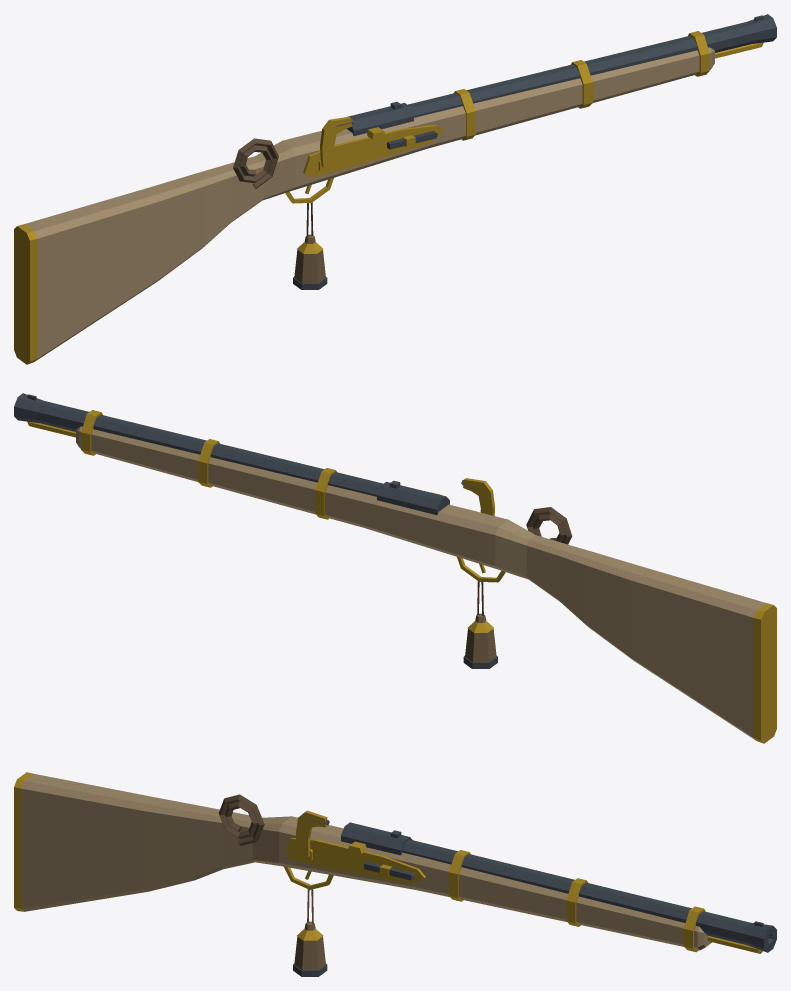
The model's file is tanegashima-matchlock-7d21b2.glb.
3 views of the same model, one above another, from view 1: azimuth 30°, elevation 25°; view 2: azimuth 150°, elevation 25°; view 3: azimuth 330°, elevation 25° (orthographic).
Visible parts, largest first — view 1: gun, flask-mesh, serpentine-mesh; view 2: gun, flask-mesh, serpentine-mesh; view 3: gun, flask-mesh, serpentine-mesh.
Part boxes in pixels (x1=…): gun: x1=14, y1=14, x2=776, y2=364; flask-mesh: x1=293, y1=202, x2=327, y2=289; serpentine-mesh: x1=318, y1=116, x2=353, y2=173; gun: x1=14, y1=393, x2=776, y2=743; flask-mesh: x1=463, y1=577, x2=497, y2=668; serpentine-mesh: x1=461, y1=478, x2=494, y2=515; gun: x1=14, y1=772, x2=776, y2=953; flask-mesh: x1=293, y1=884, x2=327, y2=976; serpentine-mesh: x1=296, y1=810, x2=329, y2=862.
Size of the model in its own units: 1.31 by 0.296 by 0.0683.
